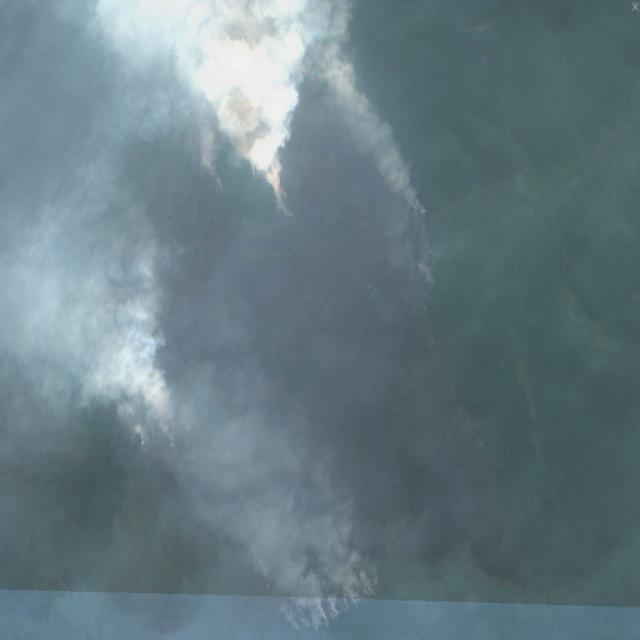fire: (209, 36, 434, 327), (235, 543, 379, 640), (92, 360, 184, 455)
